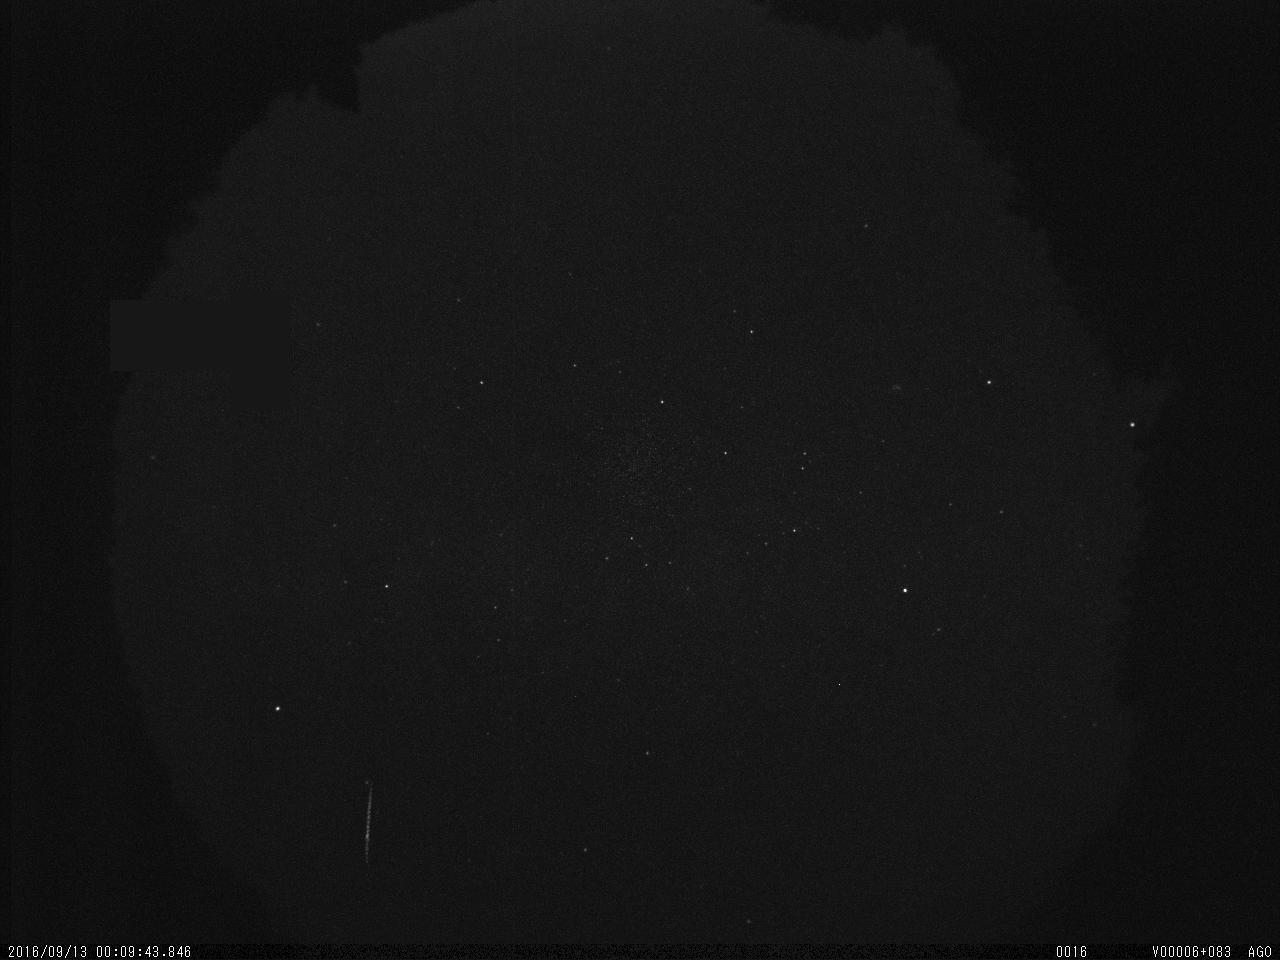meteor: (349, 780, 391, 875)
